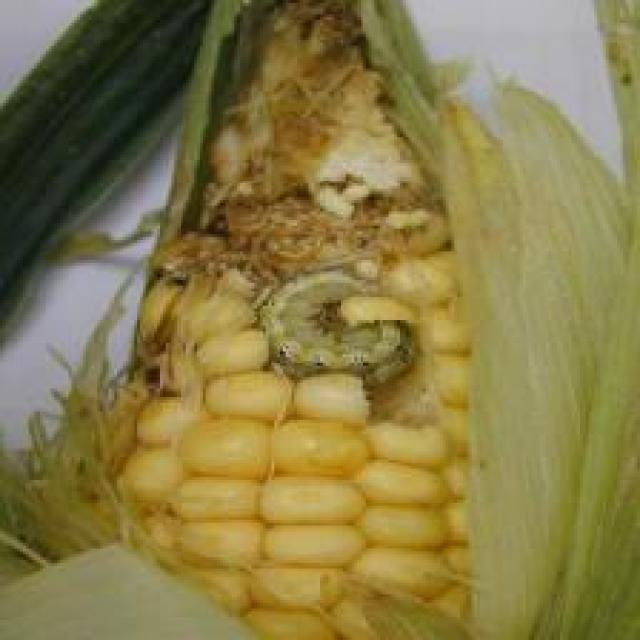Plaga: (200, 258, 440, 415)
